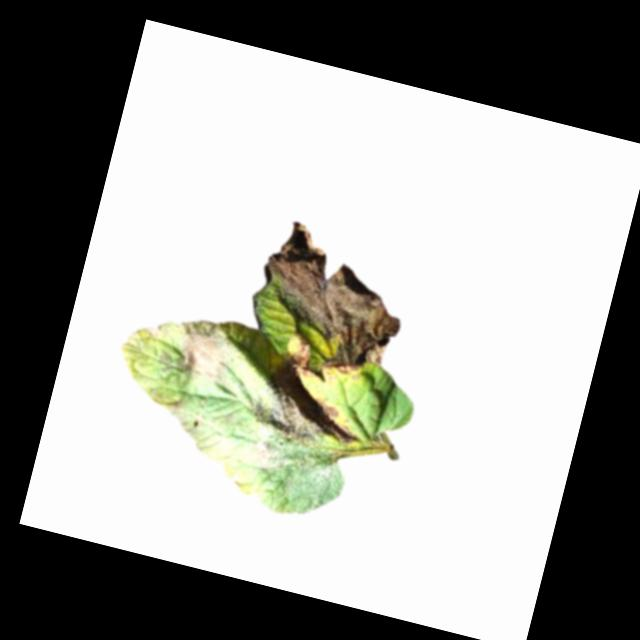Late_blight: (244, 216, 418, 388), (235, 356, 367, 489), (170, 315, 242, 385), (321, 358, 359, 389), (144, 317, 169, 343), (227, 468, 244, 485)
